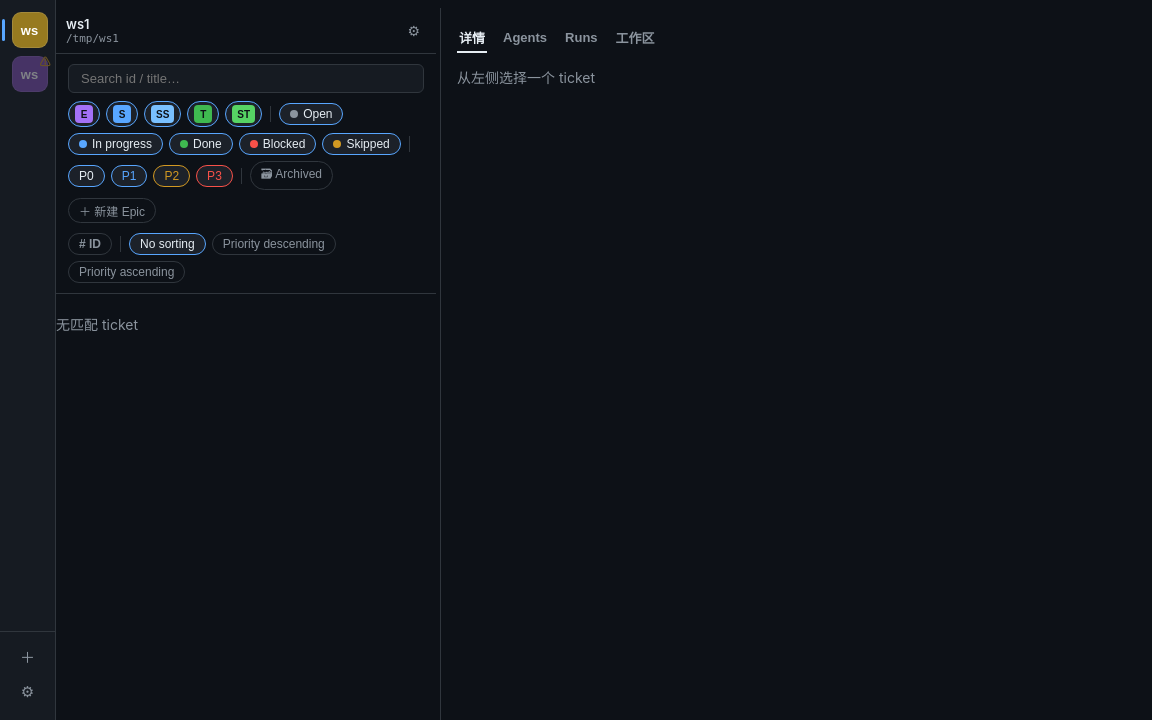
Test: U2 右键菜单（R4） › F-TERM-21：切换失败（目录已失效）时「工作区设置」不打开设置标签——否则展示与操作的是当前工作区
This screenshot has width=1152, height=720.
Expected: the text with class "workspace-name" reads "ws1", [66,16,90,32]
Right-click the button with class "rail-icon" showing "ws ⚠" at (30, 74), box [12,56,48,92]
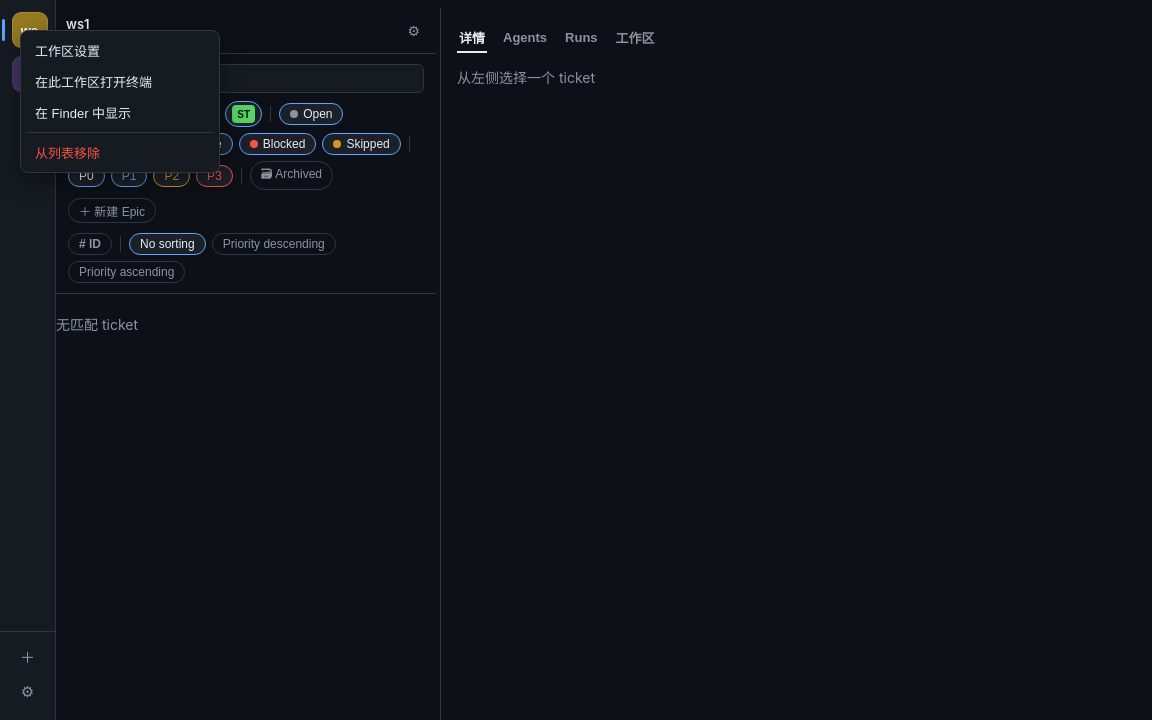
Expected: the menu with class "ws-context-menu" is shown, [20,30,220,173]
Click the menu item "工作区设置". click: click(120, 50)
box: [25,35,215,66]
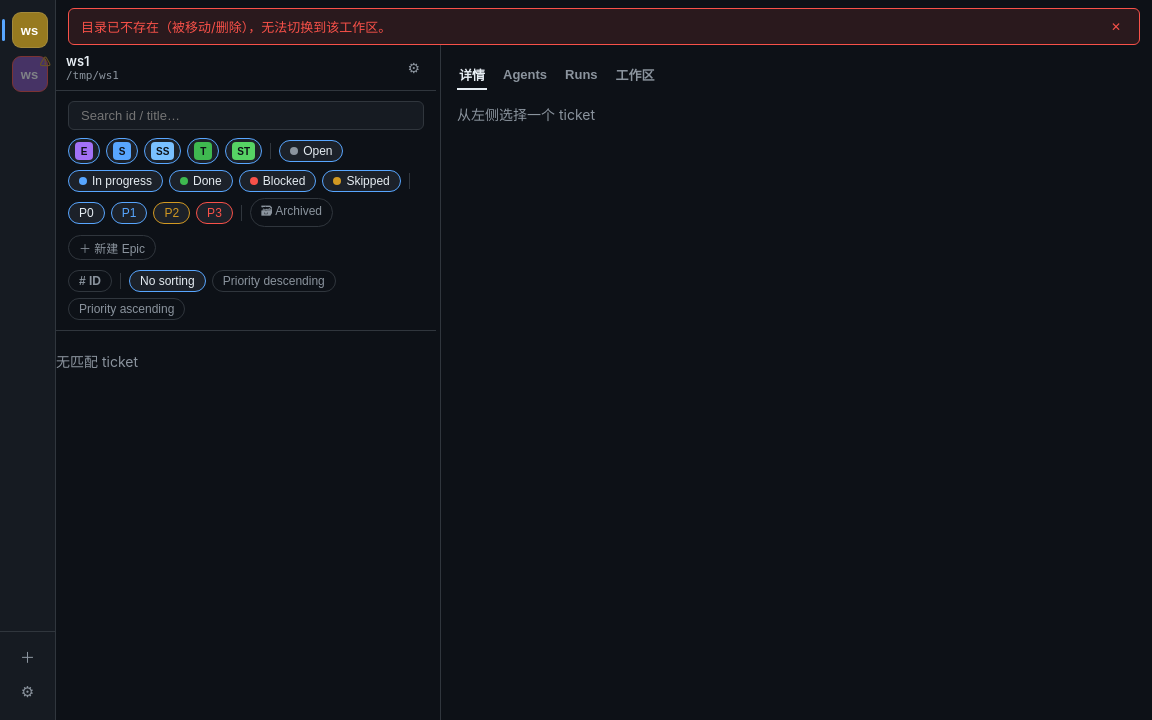
Expected: the text with class "workspace-name" reads "ws1", [66,53,90,69]
Expected: the text "目录已不存在（被移动/删除），无法切换到该工作区。" is shown, [81,19,391,35]
